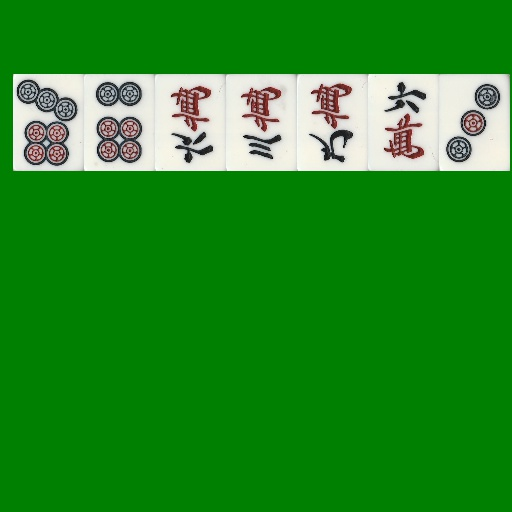3m: (226, 74, 297, 171)
3p: (439, 74, 510, 171)
6m: (155, 74, 226, 171), (368, 74, 439, 171)
6p: (84, 74, 155, 171)
7p: (13, 74, 84, 171)
9m: (297, 74, 368, 171)
